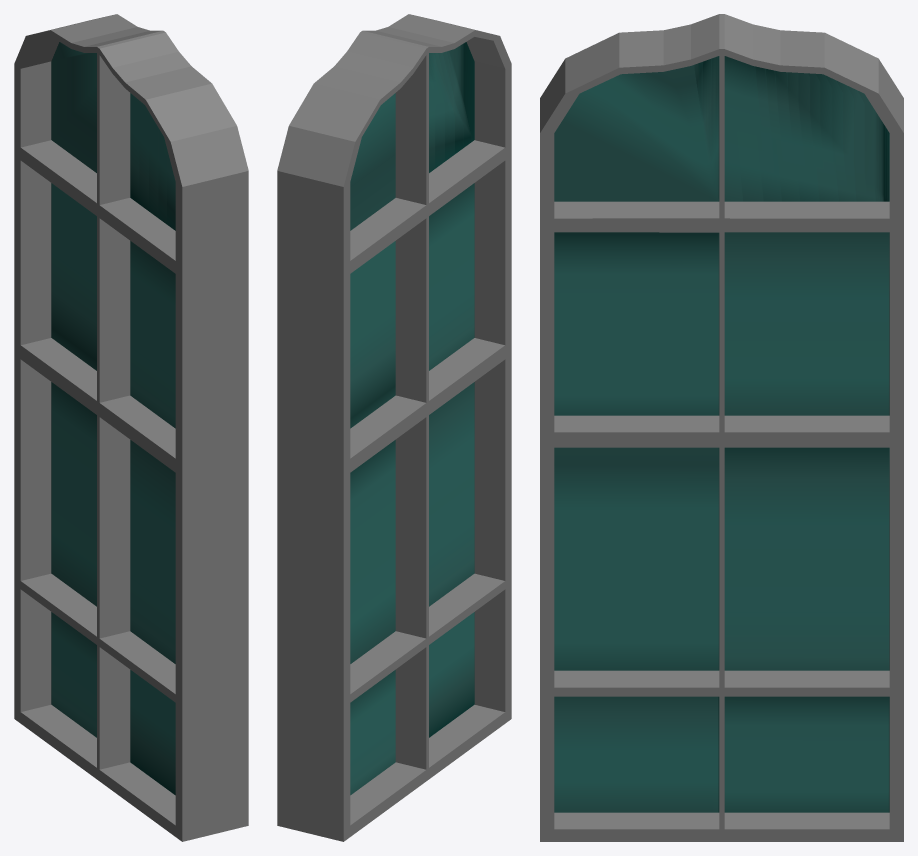
File: windowTest.fbx
3 views of the same model, side by side, from view 1: azimuth 30°, elevation 25°; view 2: azimuth 150°, elevation 25°; view 3: azimuth 270°, elevation 25° (orthographic). The views are drawn at different scales.
Visible parts, largest first — view 1: Cube; view 2: Cube; view 3: Cube.
Part boxes in pixels (<box>): Cube: <box>14,14,248,841</box>; Cube: <box>277,14,511,841</box>; Cube: <box>540,14,903,841</box>.
Bounding box in the file's own units: 79 × 832 × 346.
Materials: 1 (1 with a texture image).
